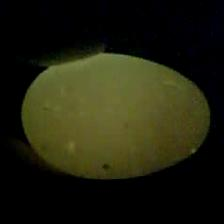infertile: (20, 53, 213, 183)
